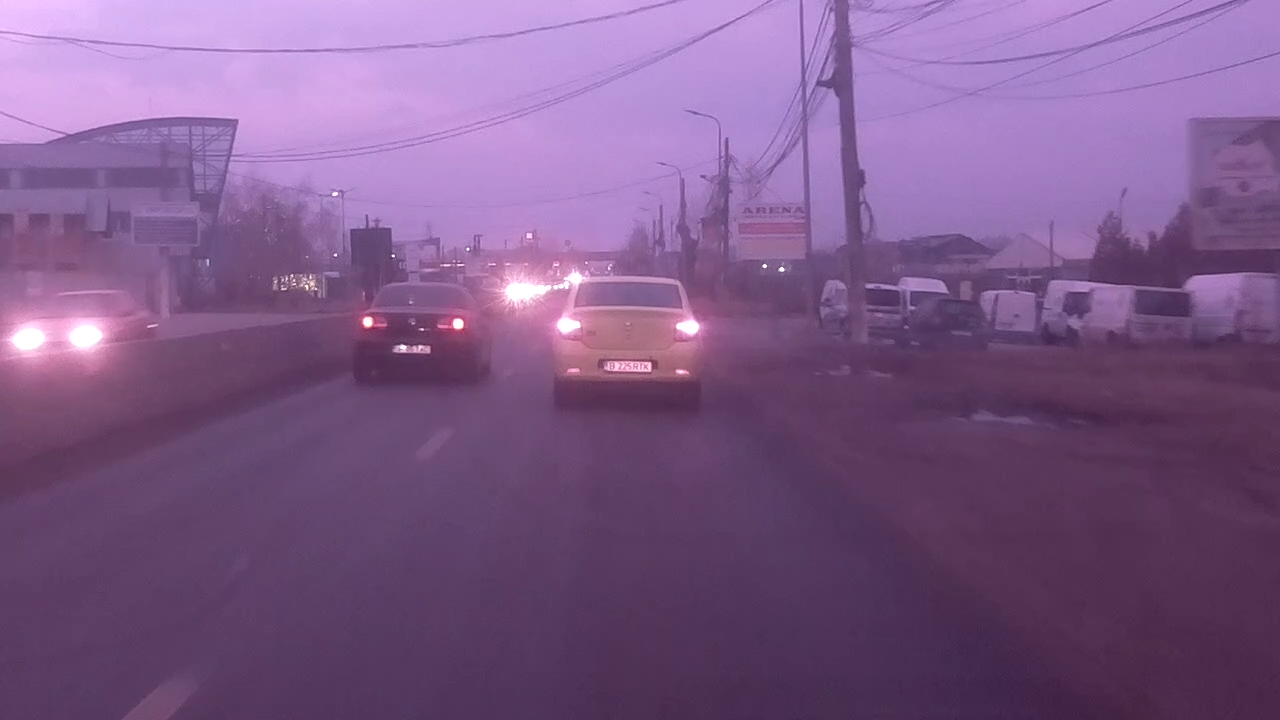license-plate: (601, 359, 654, 375), (390, 341, 432, 356)
